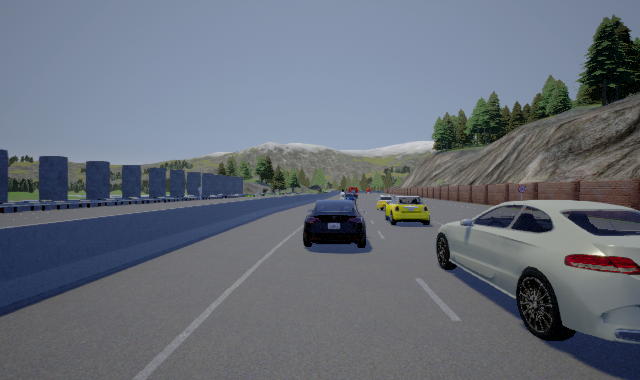traffic_sign: (518, 185, 526, 193)
vehicle: (435, 200, 640, 345), (303, 187, 366, 248), (376, 196, 430, 225)
